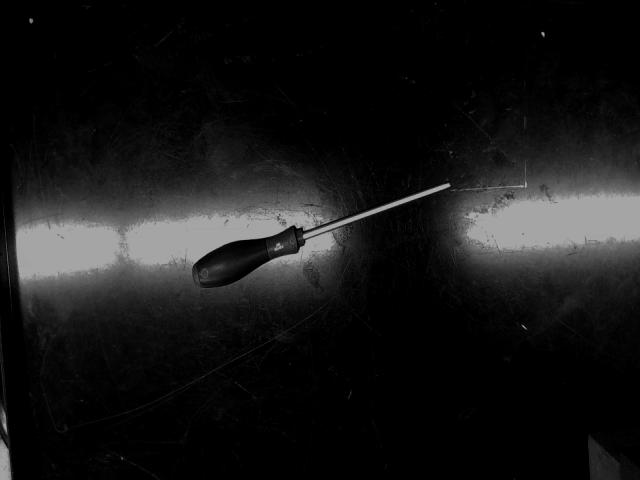Screwdriver: (191, 182, 450, 288)
